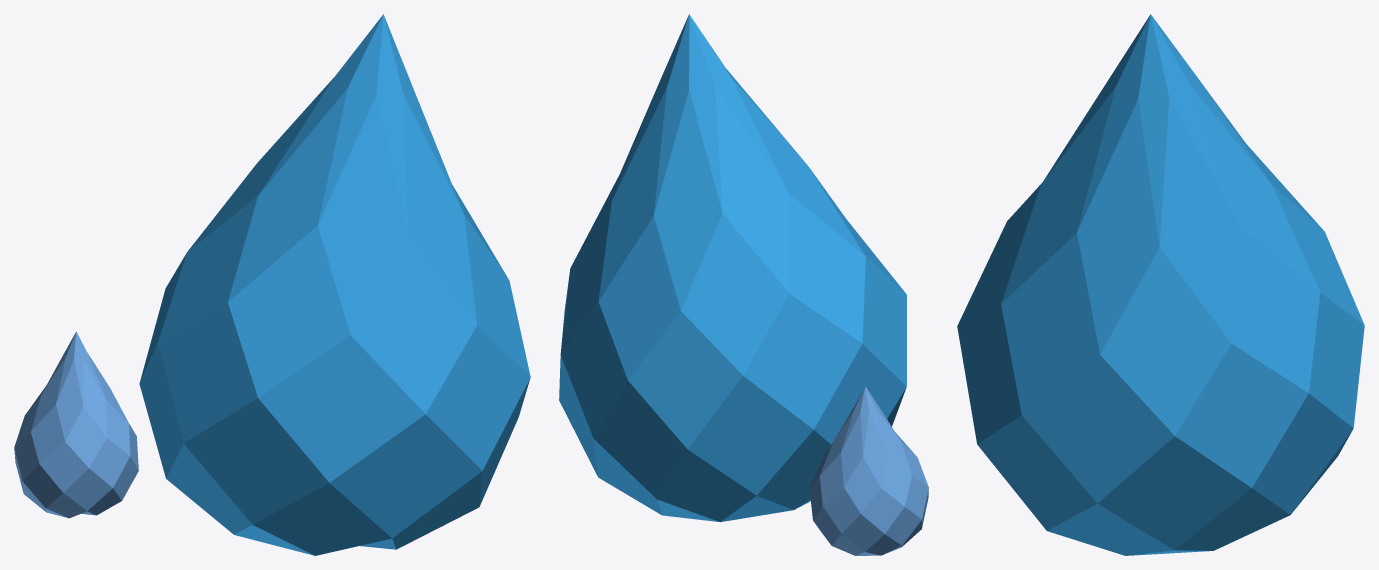
File: water.fbx
The picture shows the model from 3 angles, left to right: view 1: azimuth 30°, elevation 25°; view 2: azimuth 150°, elevation 25°; view 3: azimuth 270°, elevation 25°; orthographic projection. The views are drawn at different scales.
Parts seen in each view (by area): view 1: 球体.001; view 2: 球体.001; view 3: 球体.001.
Boxes of the visible parts, box(x1,y1,x2,y2) form: 球体.001: box(14, 14, 530, 555); 球体.001: box(559, 14, 928, 555); 球体.001: box(957, 14, 1364, 555).
Size of the model in its own units: 86.3 by 97.47 by 67.4.
